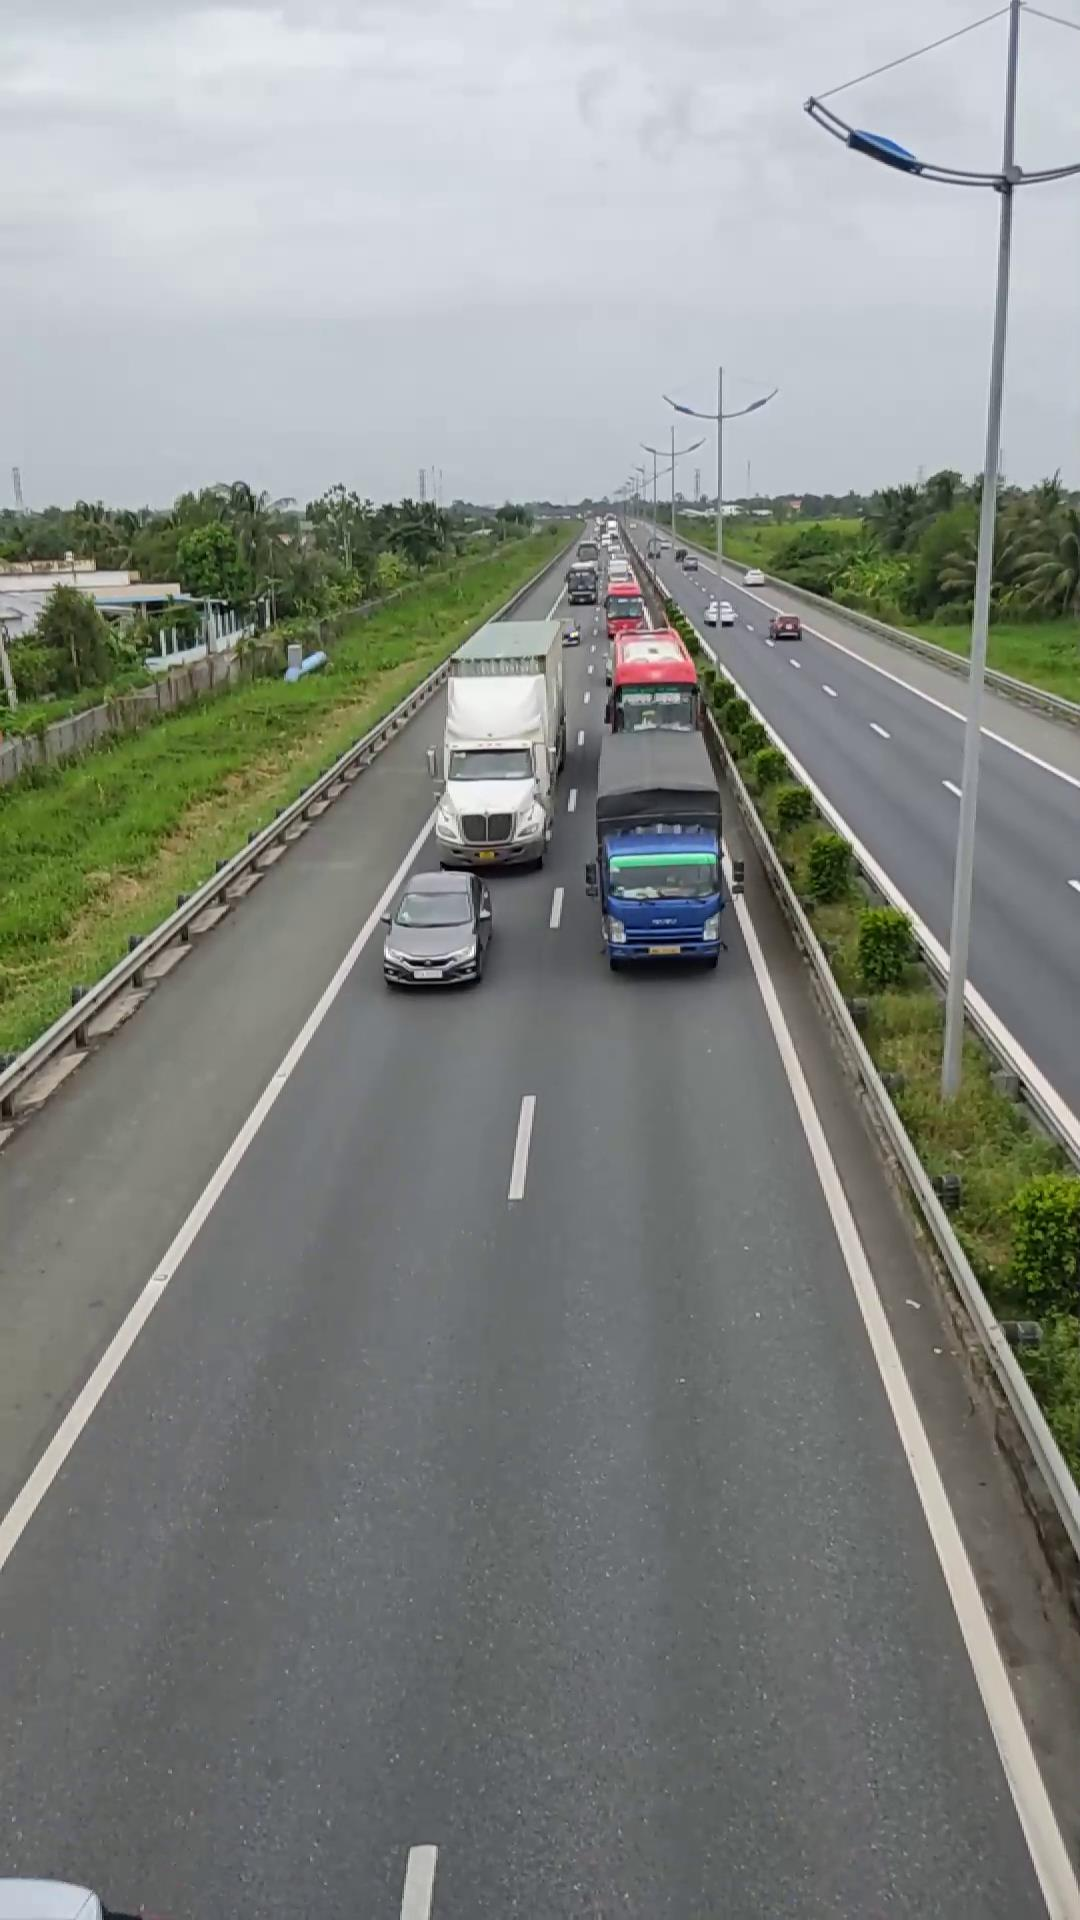car: (380, 868, 494, 989)
container: (434, 614, 571, 869)
truck: (585, 698, 731, 971)
